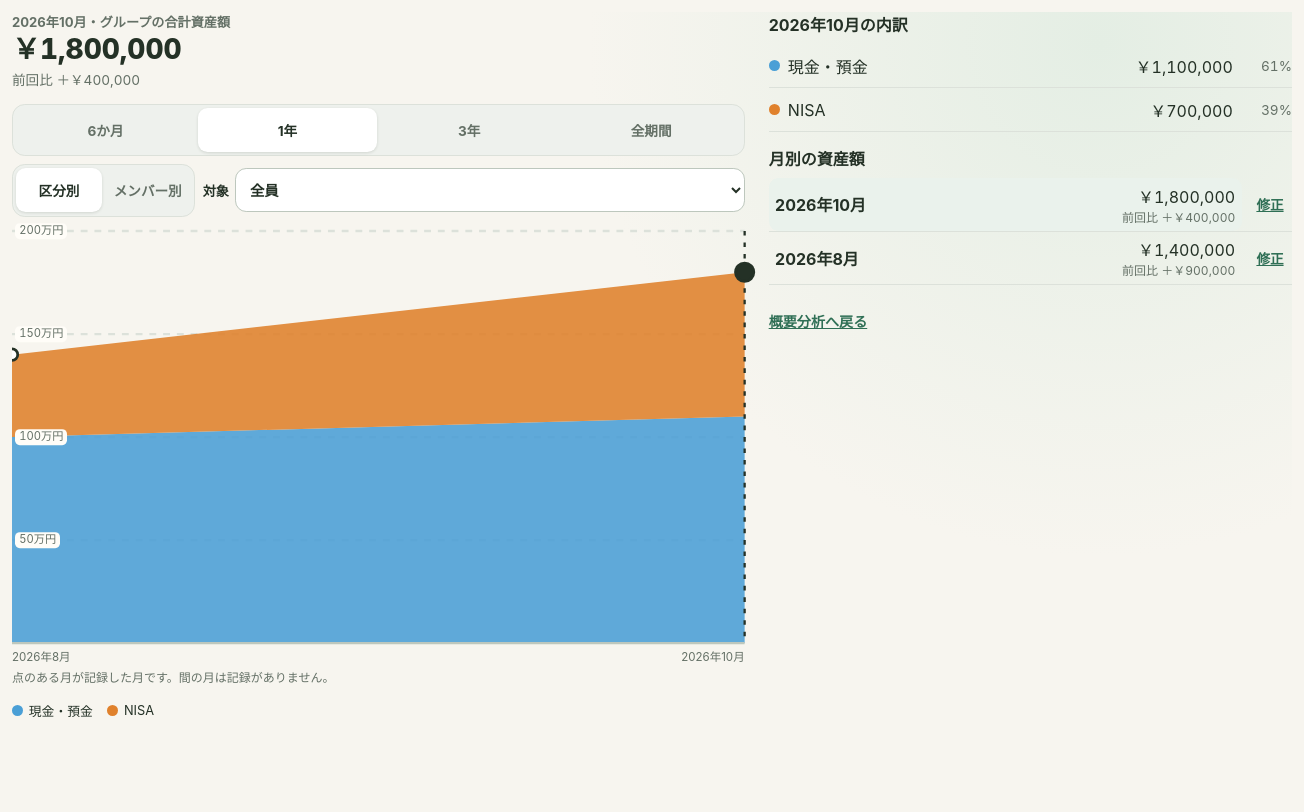
Test: AssetTrendScreen › 区分別で対象メンバーを選ぶと合計と内訳がそのメンバーの値になる (AC-AST-008-1)
Select "はなこ" in the dropdown labelled "対象" at {"x": 490, "y": 190}, box [235,168,745,212]
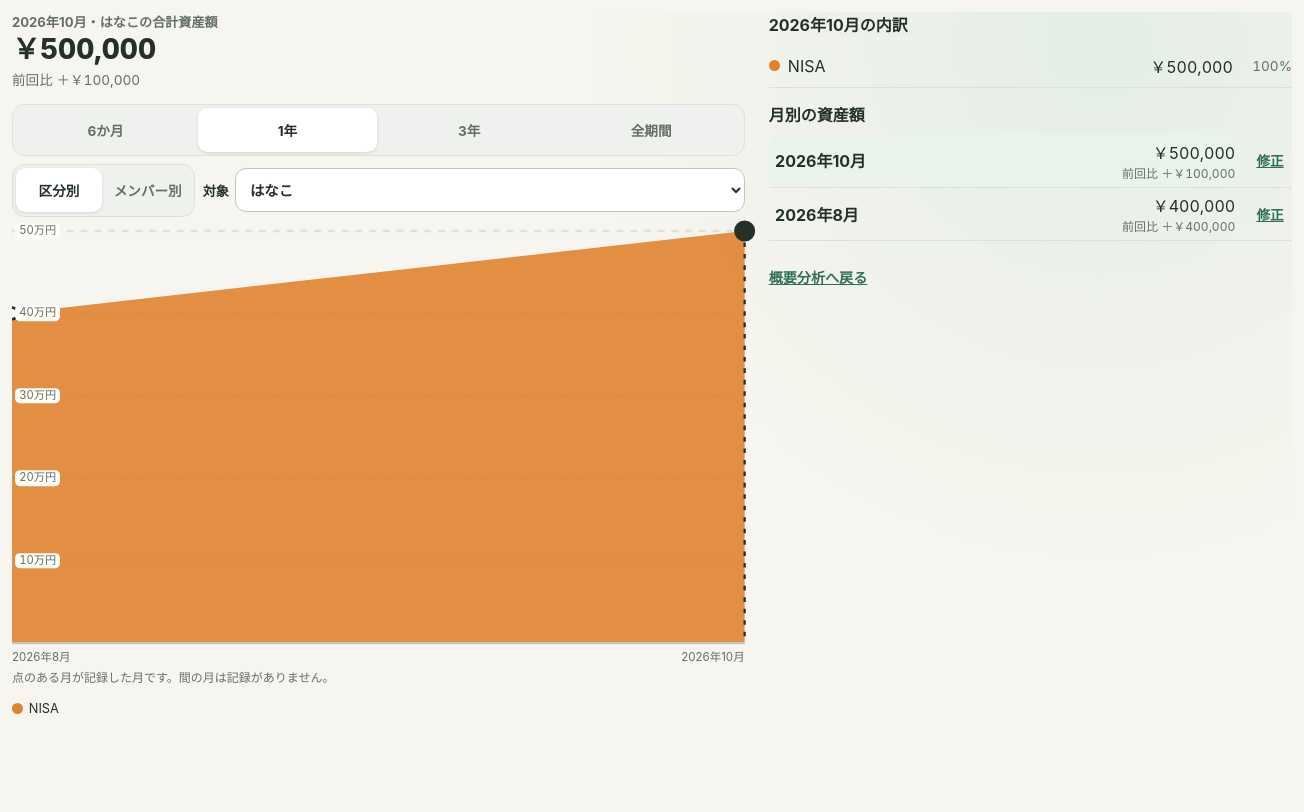
Check: the element named "選択中の月の合計資産額" shows "はなこの合計資産額", box [12,14,218,30]
Check: the element named "選択中の月の合計資産額" shows "￥500,000", box [12,32,156,66]
Check: the element named "選択中の月の合計資産額" shows "前回比 ＋￥100,000", box [12,72,140,88]
